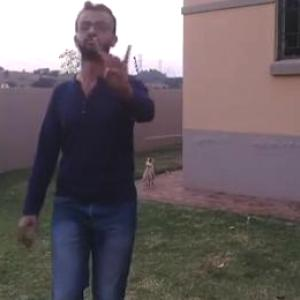takeoff-hand: (91, 39, 137, 98)
